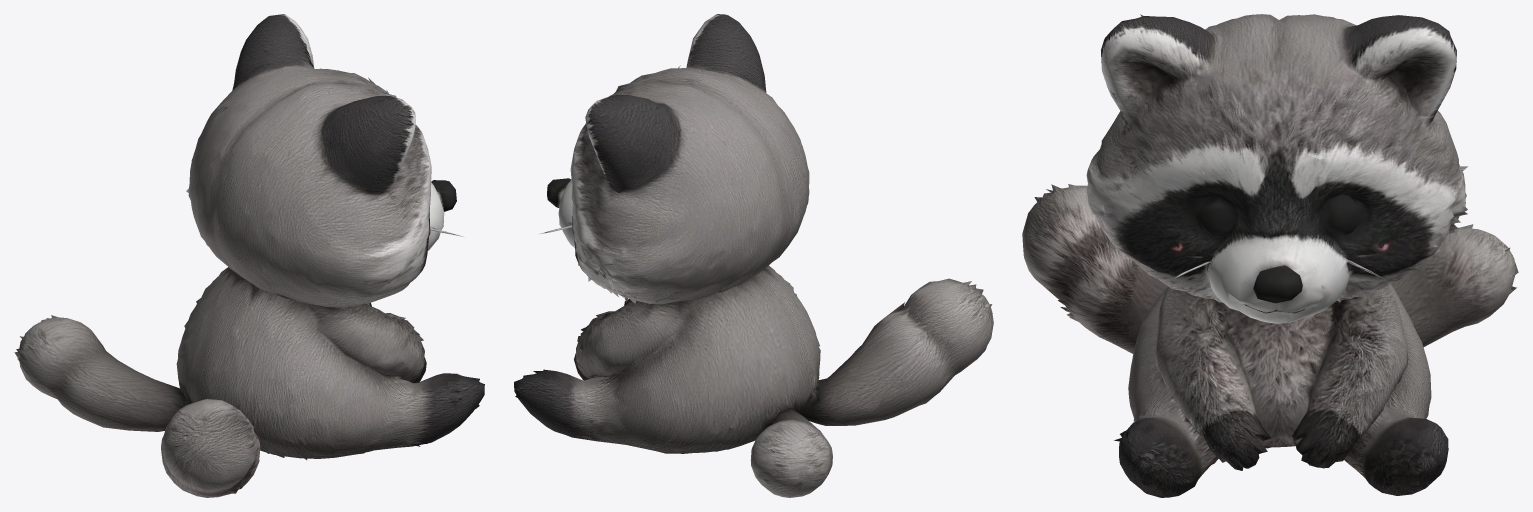
Rendered from raccoon.glb.
3 renders of one model, left to right at view 1: azimuth 30°, elevation 25°; view 2: azimuth 150°, elevation 25°; view 3: azimuth 270°, elevation 25°, orthographic. The views are drawn at different scales.
Parts seen in each view (by area): view 1: tripo_node_8685ae57-cd51-40c7-b3f4-b51d345929ea; view 2: tripo_node_8685ae57-cd51-40c7-b3f4-b51d345929ea; view 3: tripo_node_8685ae57-cd51-40c7-b3f4-b51d345929ea.
Boxes of the visible parts, x1,y1,x2,y2 form: tripo_node_8685ae57-cd51-40c7-b3f4-b51d345929ea: (14, 14, 484, 497); tripo_node_8685ae57-cd51-40c7-b3f4-b51d345929ea: (514, 14, 993, 497); tripo_node_8685ae57-cd51-40c7-b3f4-b51d345929ea: (1022, 14, 1518, 497).
Bounding box in the file's own units: 1 × 0.9384 × 0.9482.
1 material, 1 textured.
